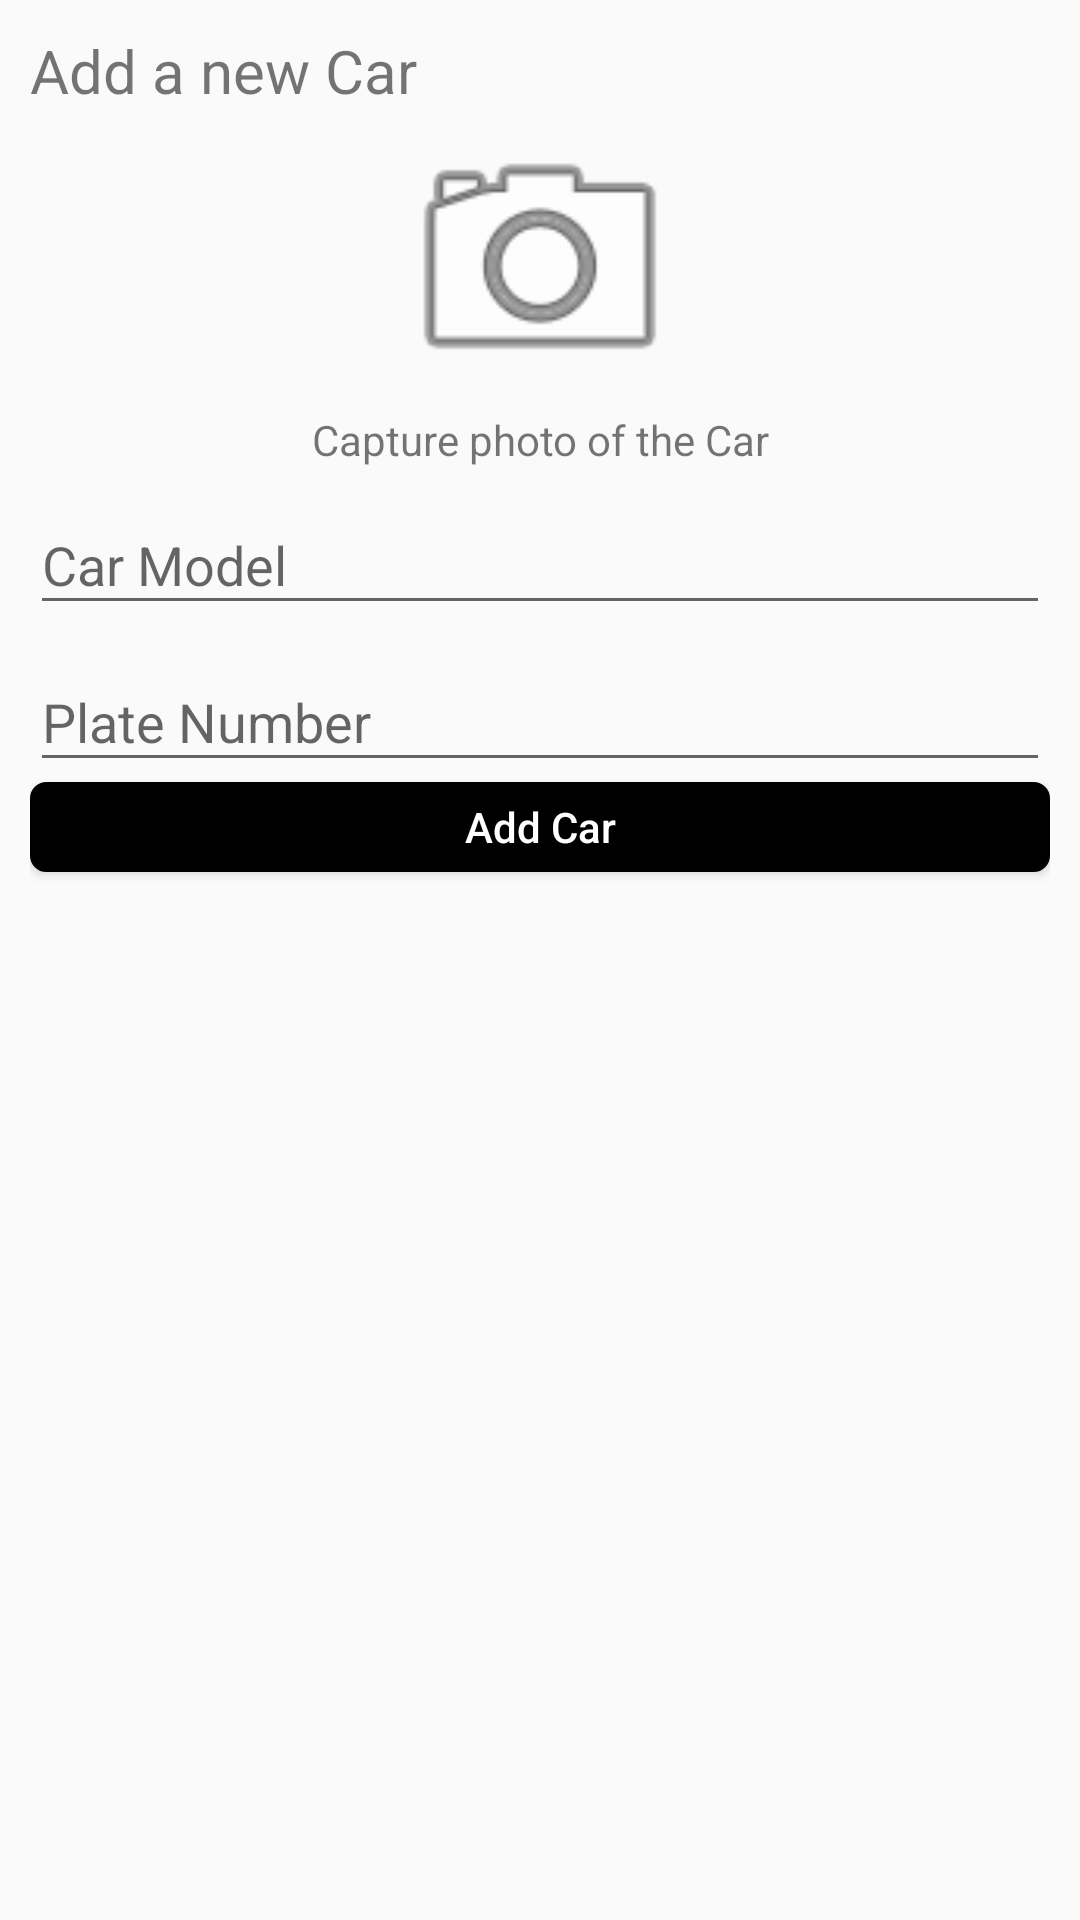

Named icons in this screenshot (1080px x 1920px) and their bounding boxes, (left=x1, top=y1, right=x2, bottom=y2):
camera: (left=424, top=164, right=656, bottom=349)
